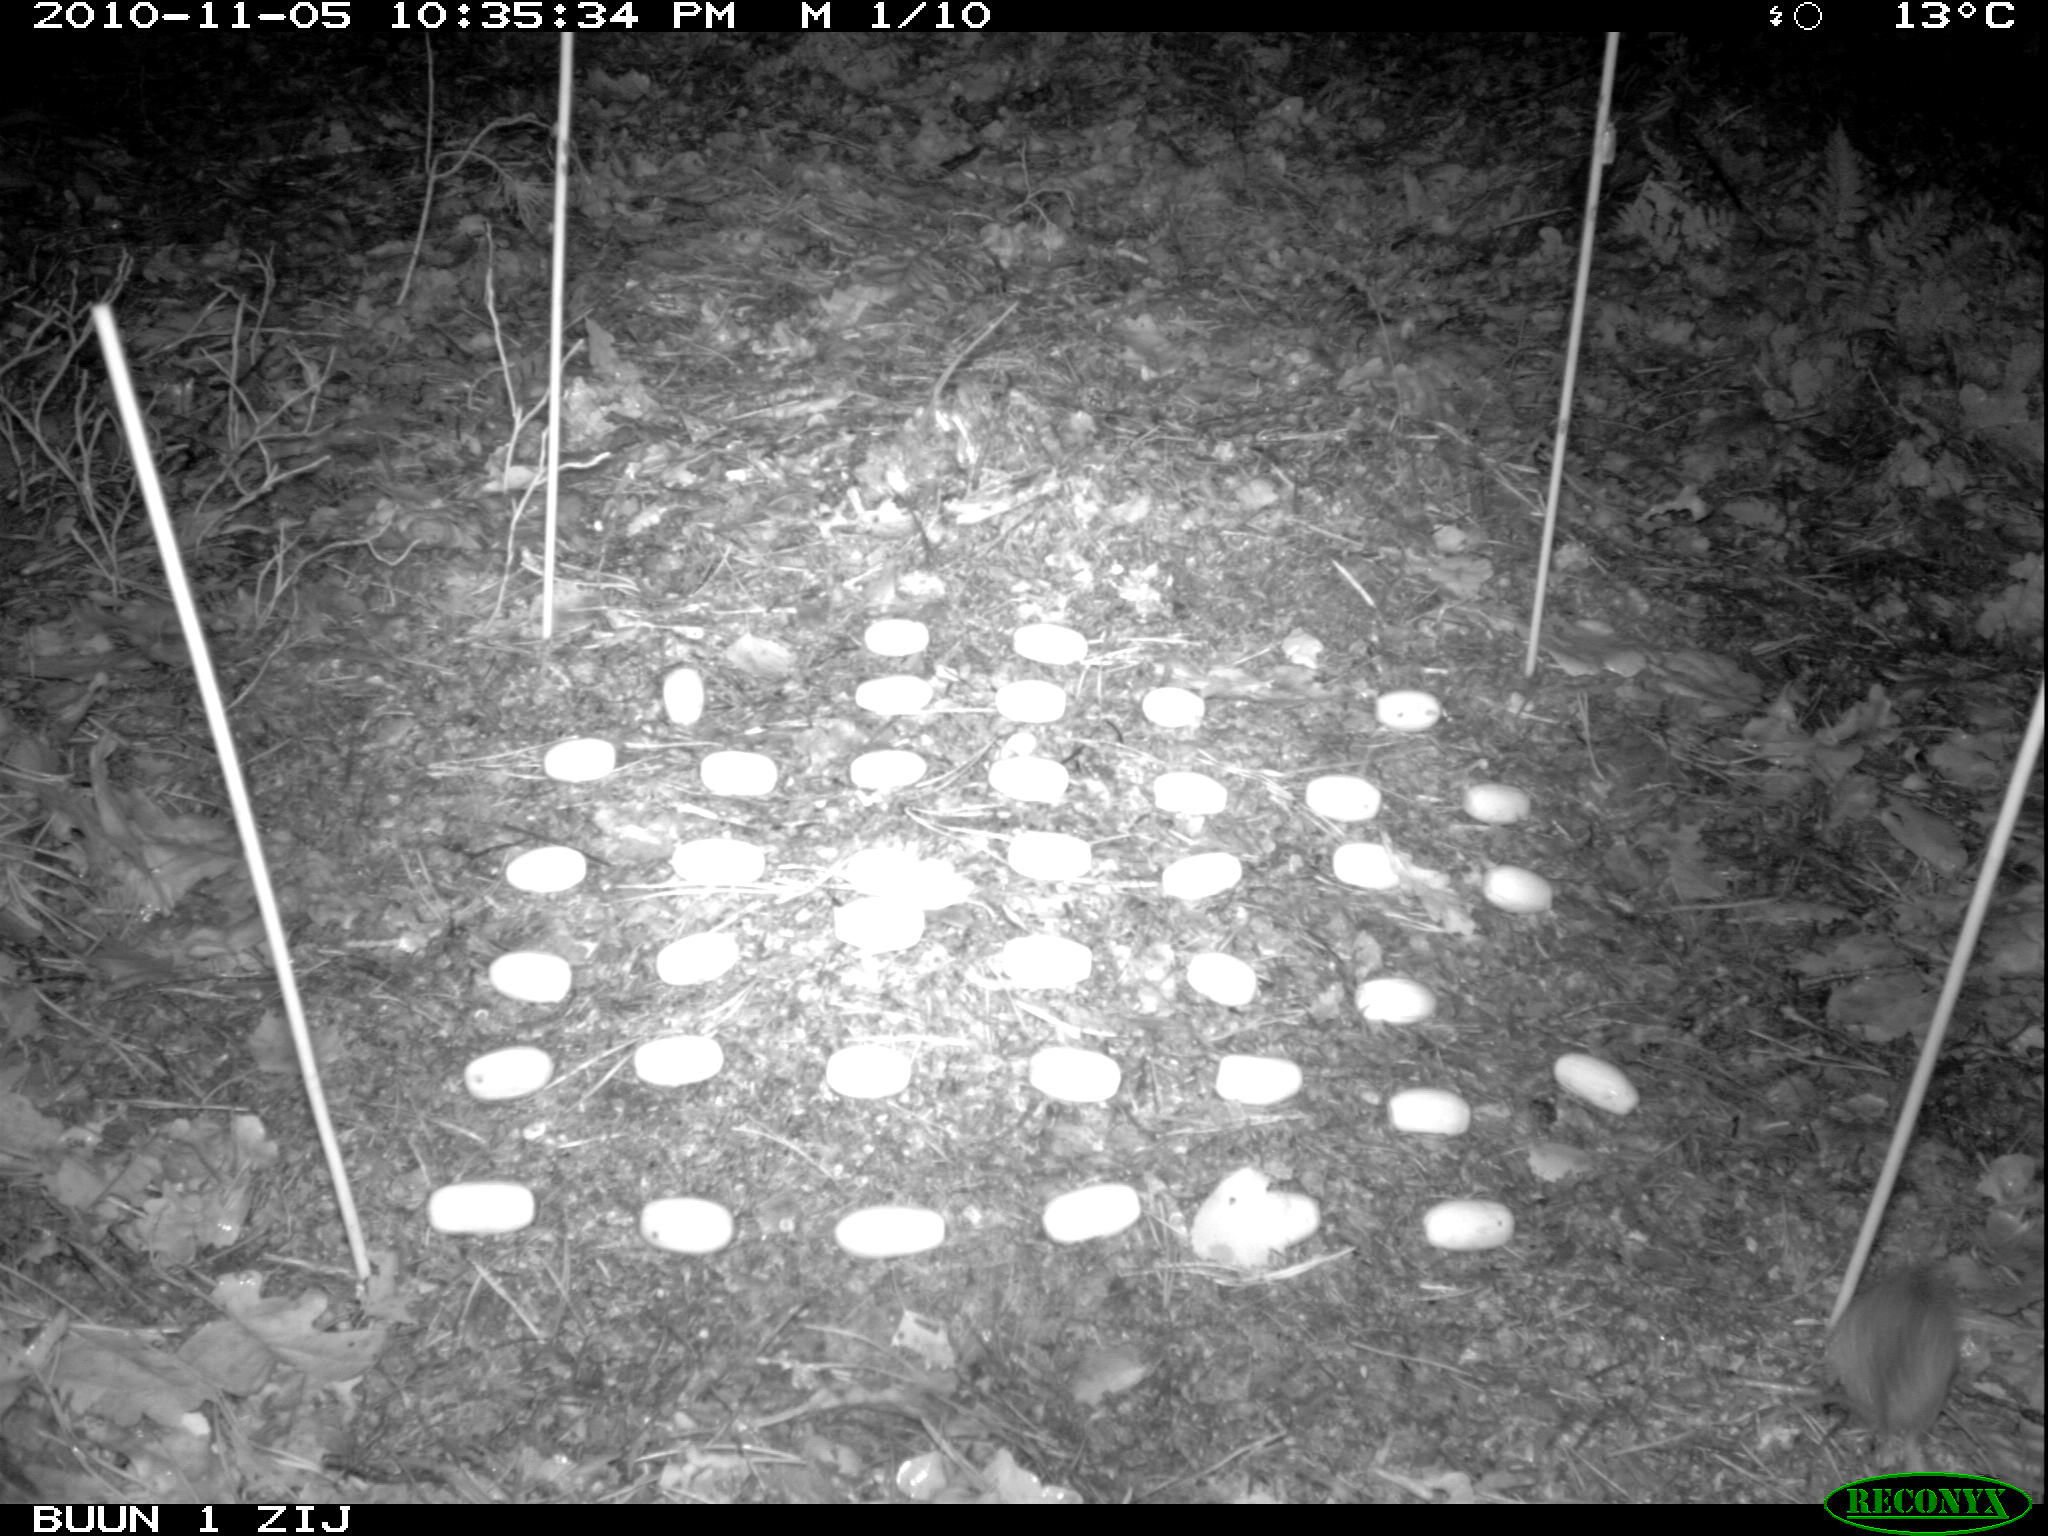Rodent: (1824, 1228, 1971, 1450)
